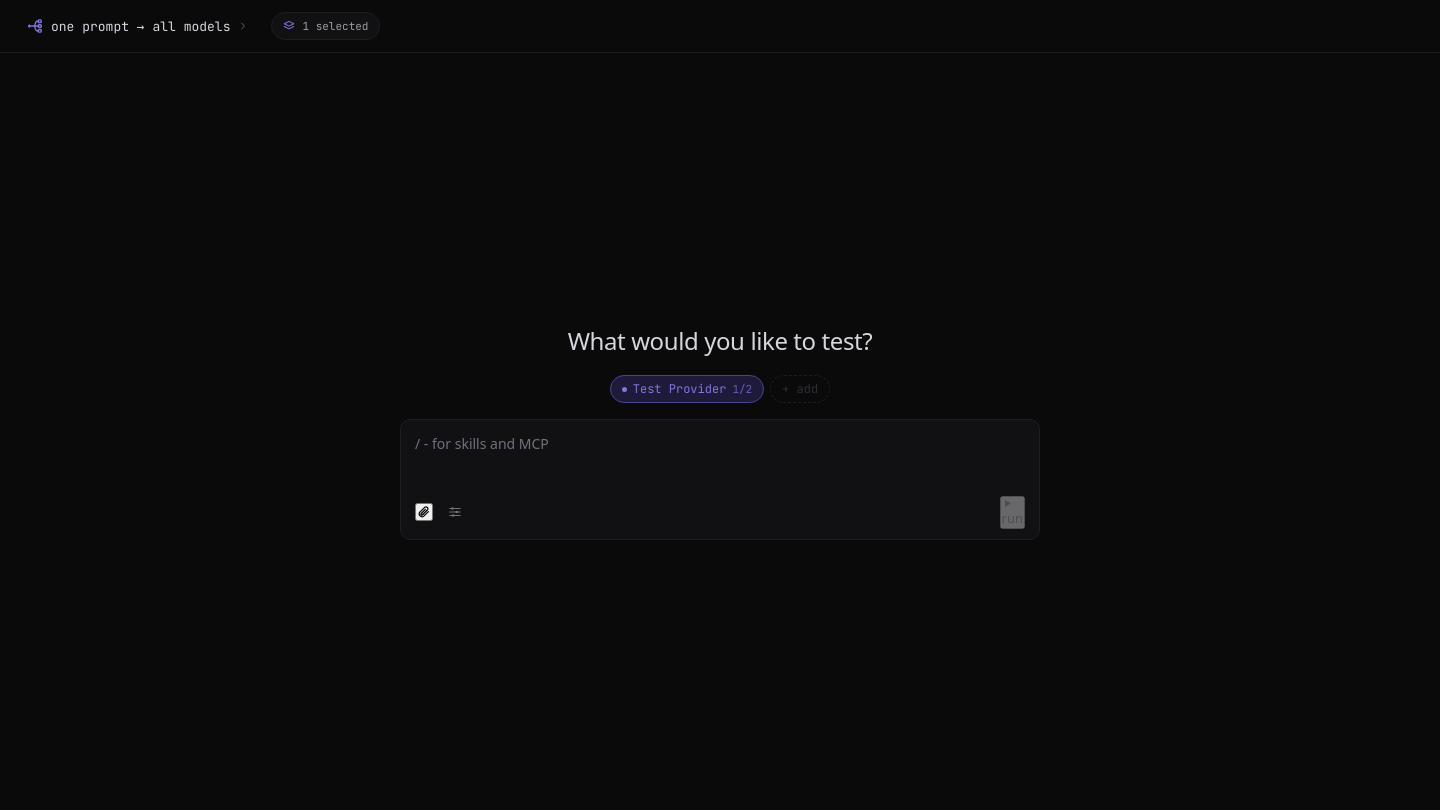
Test: ModeSelector — mode switching › switching back to "one prompt" mode restores the single textarea
The image size is (1440, 810).
What coordinates should you click on to do the following:
click the button titled "Test mode"
I would click on:
 (138, 26)
Its box is [16,10,259,42].
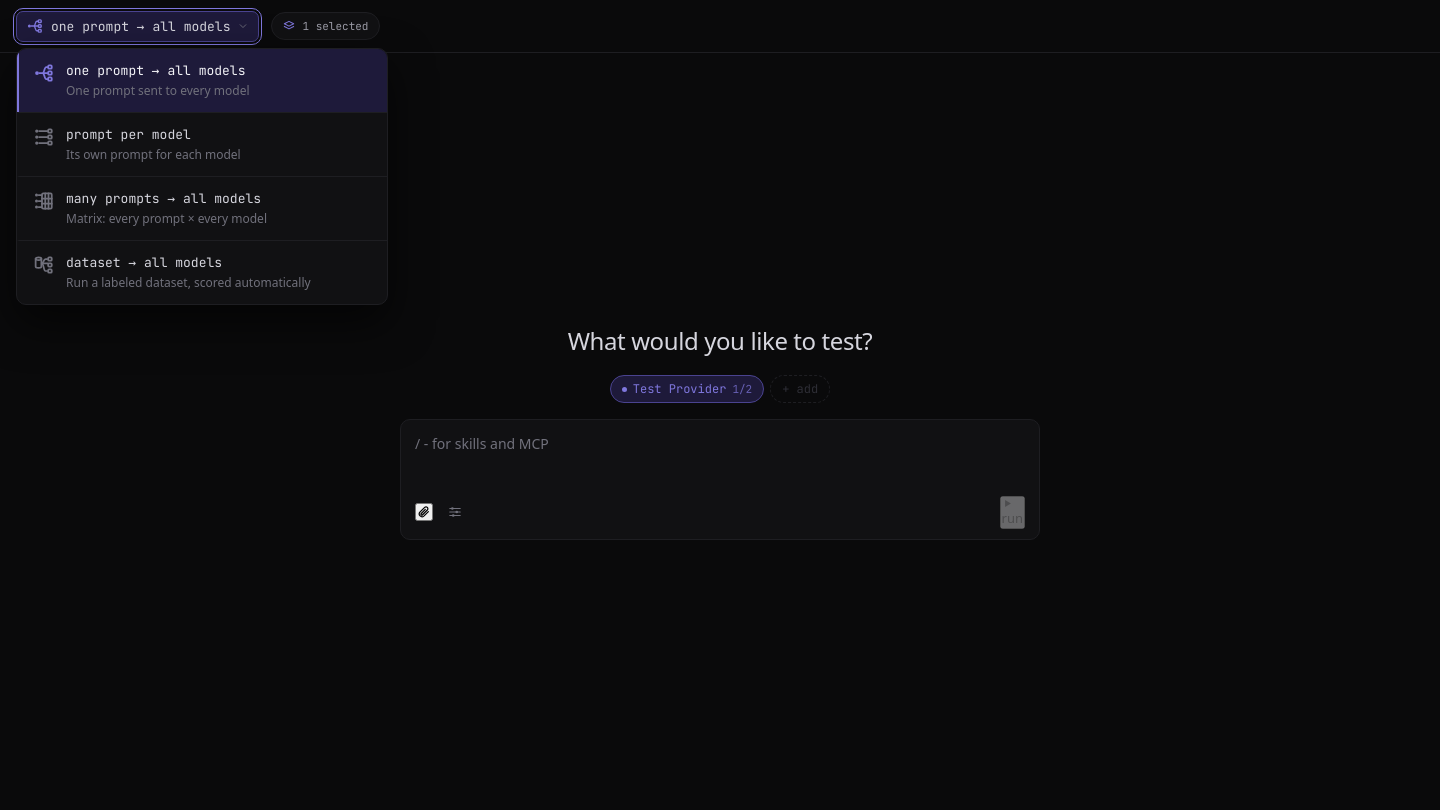
What coordinates should you click on to do the following:
click the option "prompt per model Its own prompt for each model"
I would click on:
 (202, 144)
Its box is [17,112,387,176].
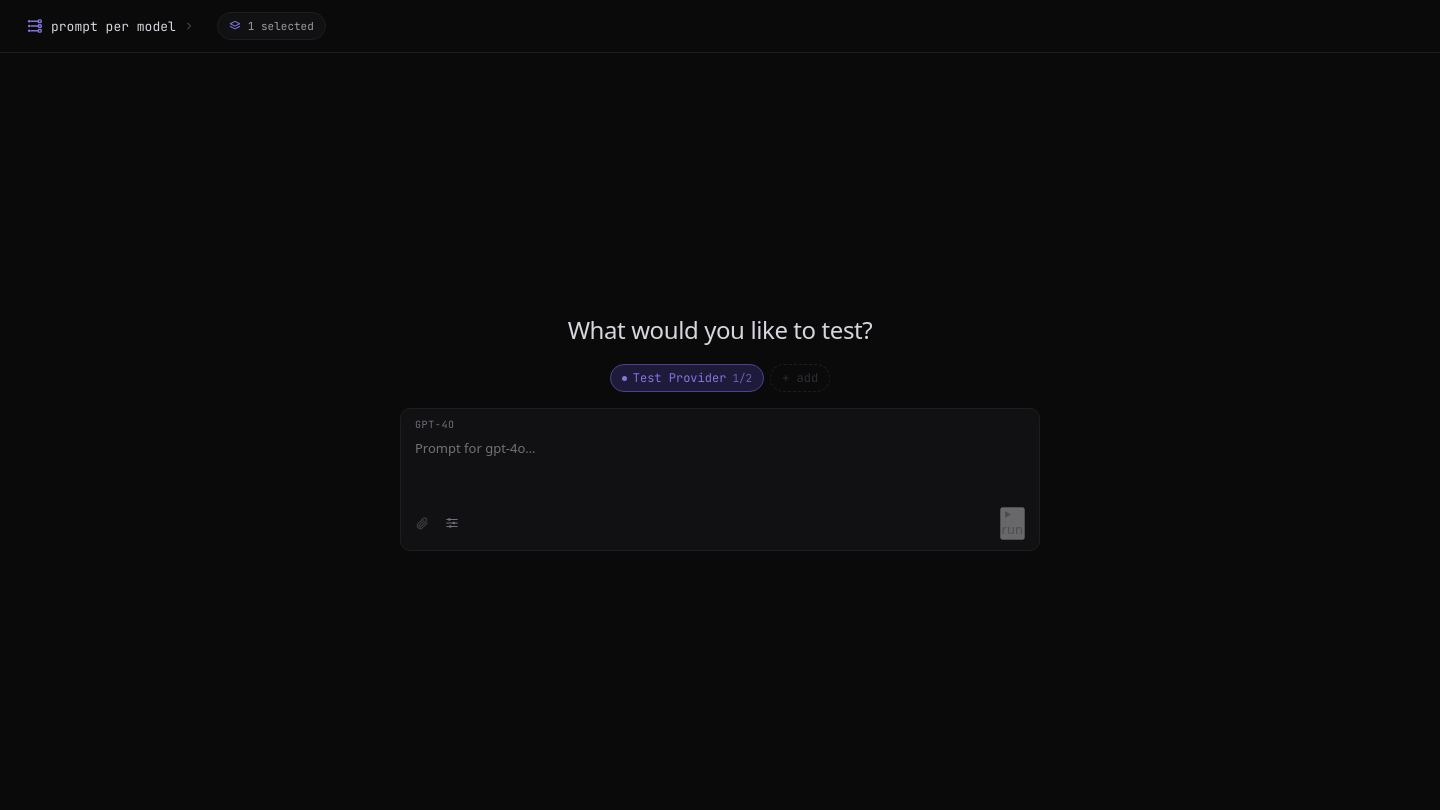
What coordinates should you click on to do the following:
click the button titled "Test mode"
I would click on:
 (110, 26)
Its box is [16,10,205,42].
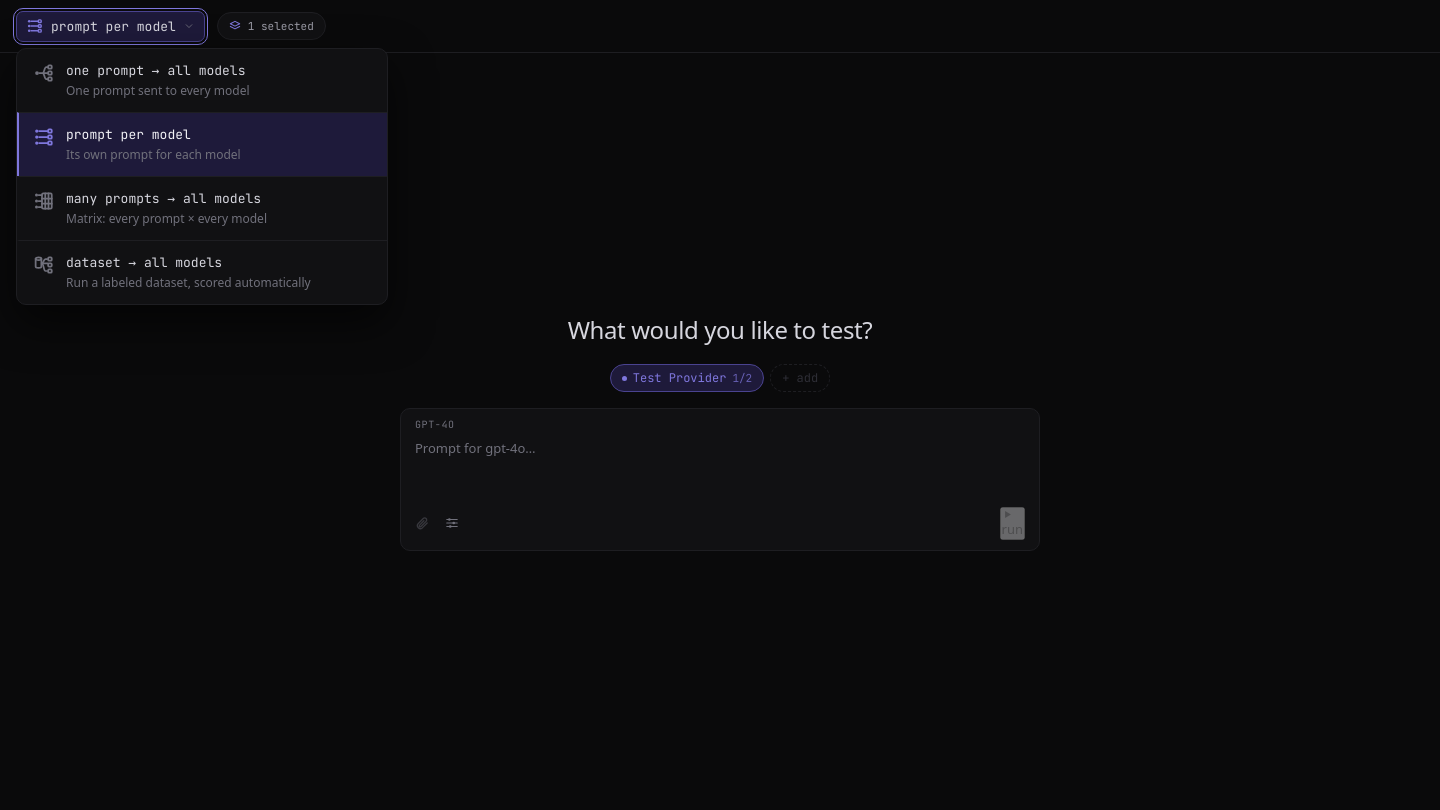
What coordinates should you click on to do the following:
click the option "one prompt → all models One prompt sent to every model"
I would click on:
 (202, 80)
Its box is [17,49,387,112].
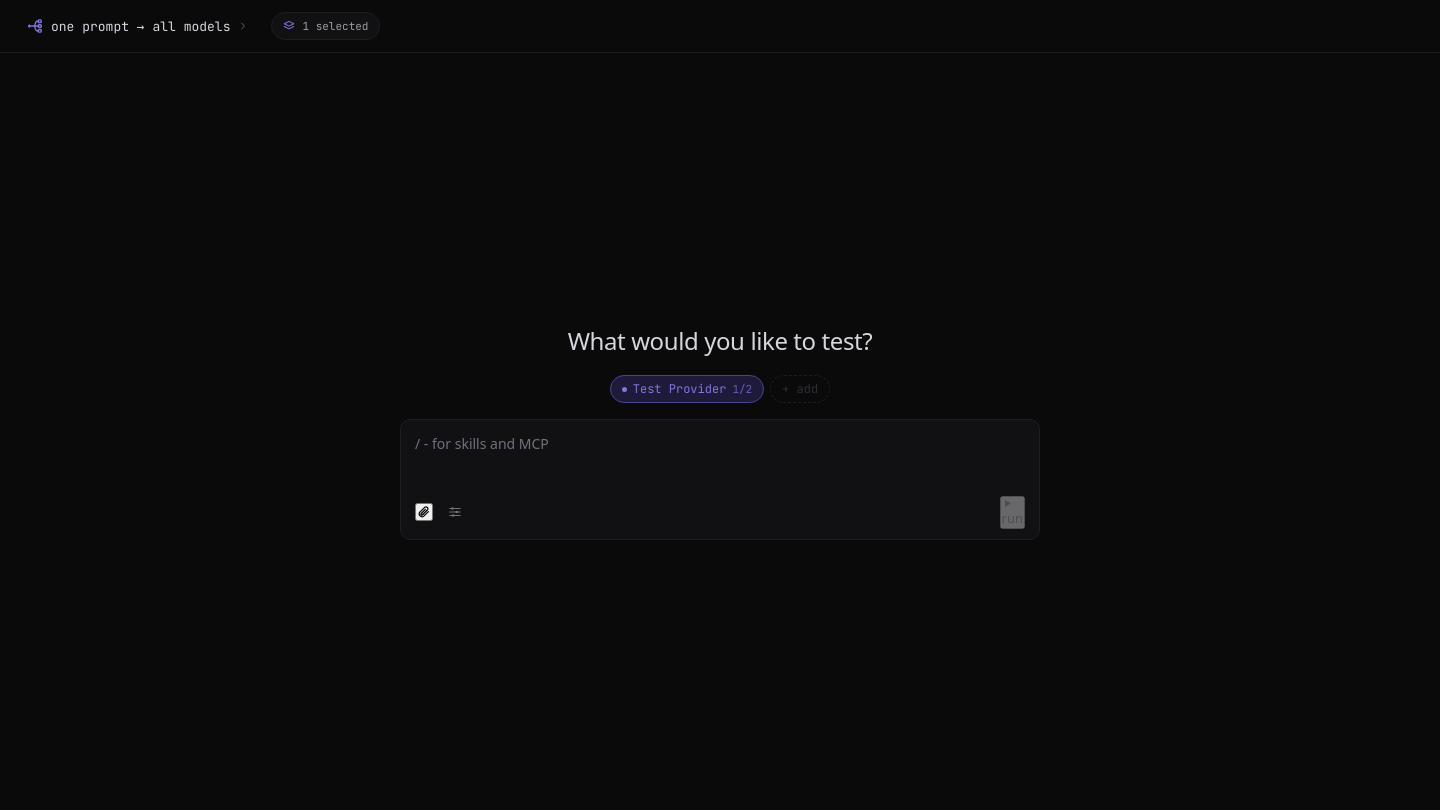
expect the text box with placeholder "/ - for skills and MCP" is shown: met, box [415,432,1025,480]
